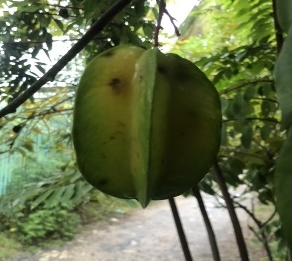Khe: (73, 42, 224, 210)
